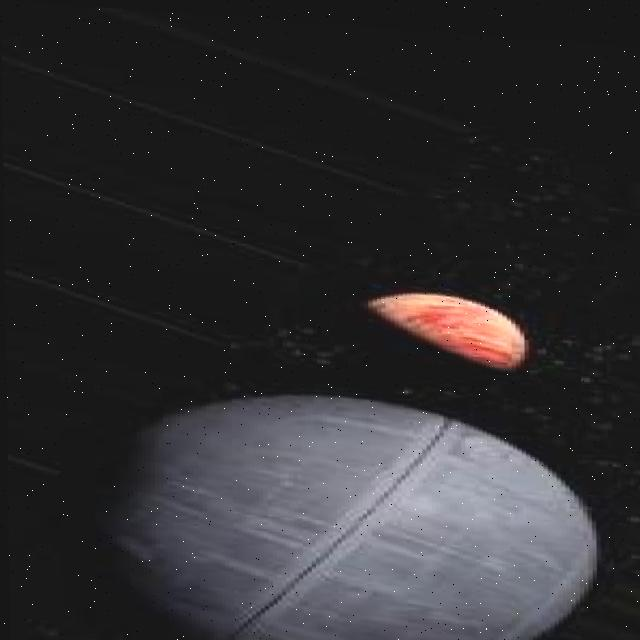deathstar: (108, 378, 596, 640)
